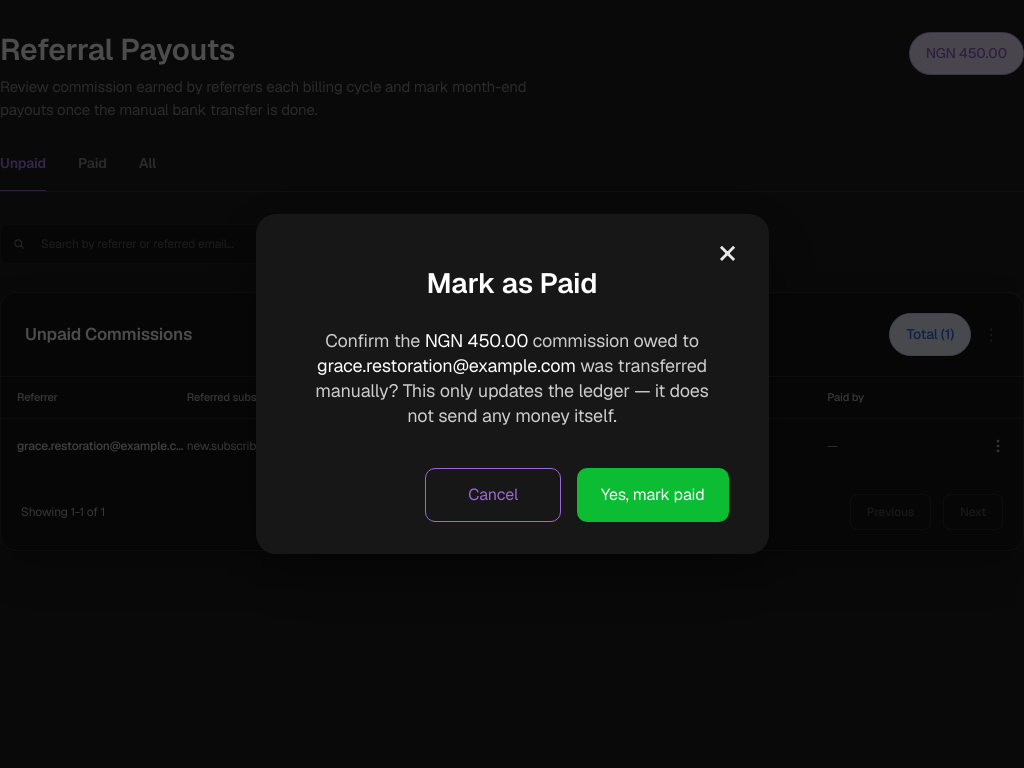
Scenario: ReferralCommissionsPage › closes route-opened mark-paid modal without router navigation
Click the button "Cancel".
click(493, 495)  # box left=425, top=468, right=561, bottom=522
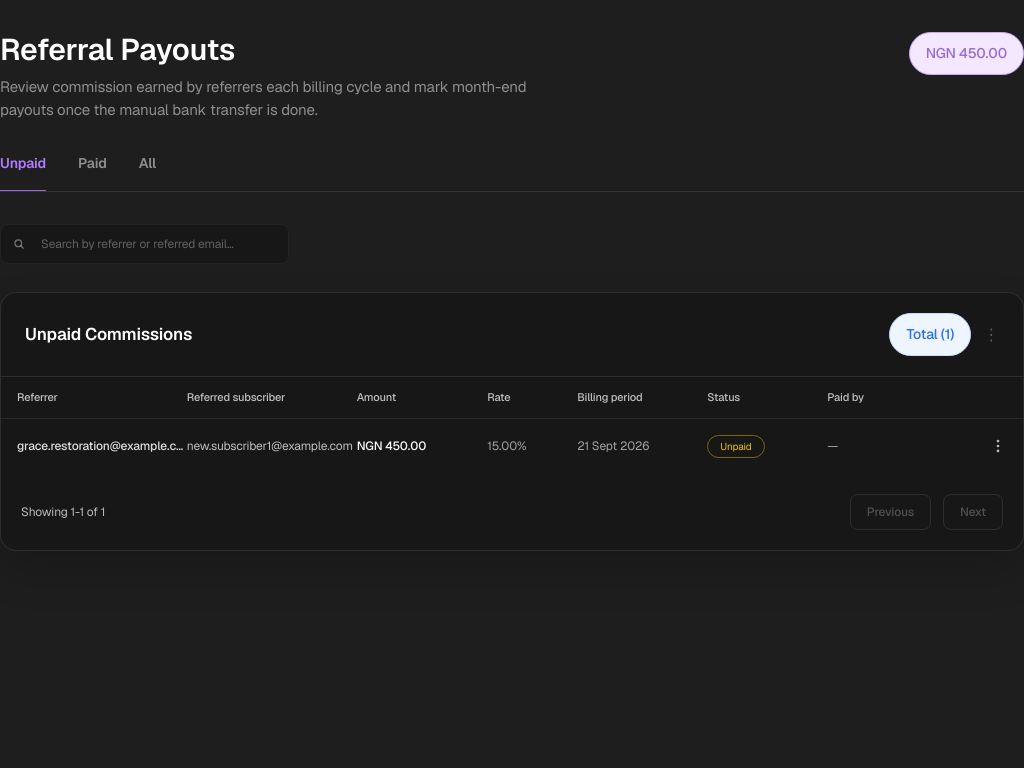
Expected: the heading "Mark as Paid" is gone
